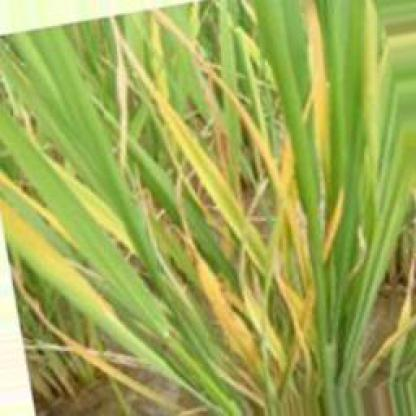Tungro: (120, 49, 288, 274), (181, 271, 318, 411), (3, 198, 115, 344), (30, 140, 141, 272), (298, 2, 336, 204), (350, 288, 414, 378), (148, 8, 198, 50), (314, 191, 342, 257)
